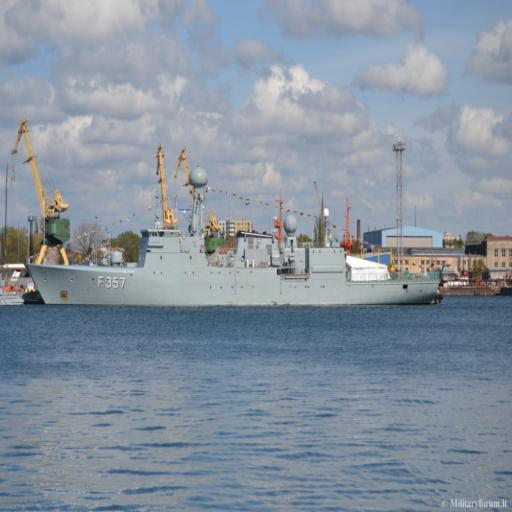Fragata: (20, 162, 445, 315)
